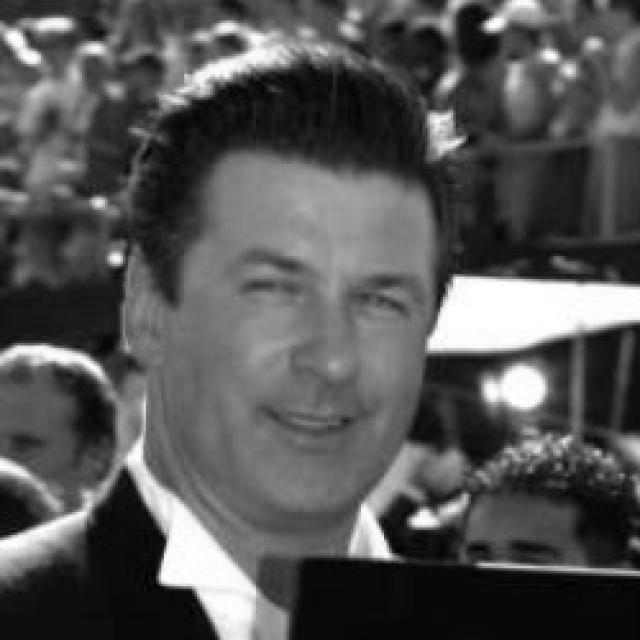real: (168, 158, 432, 518), (234, 266, 418, 326)
